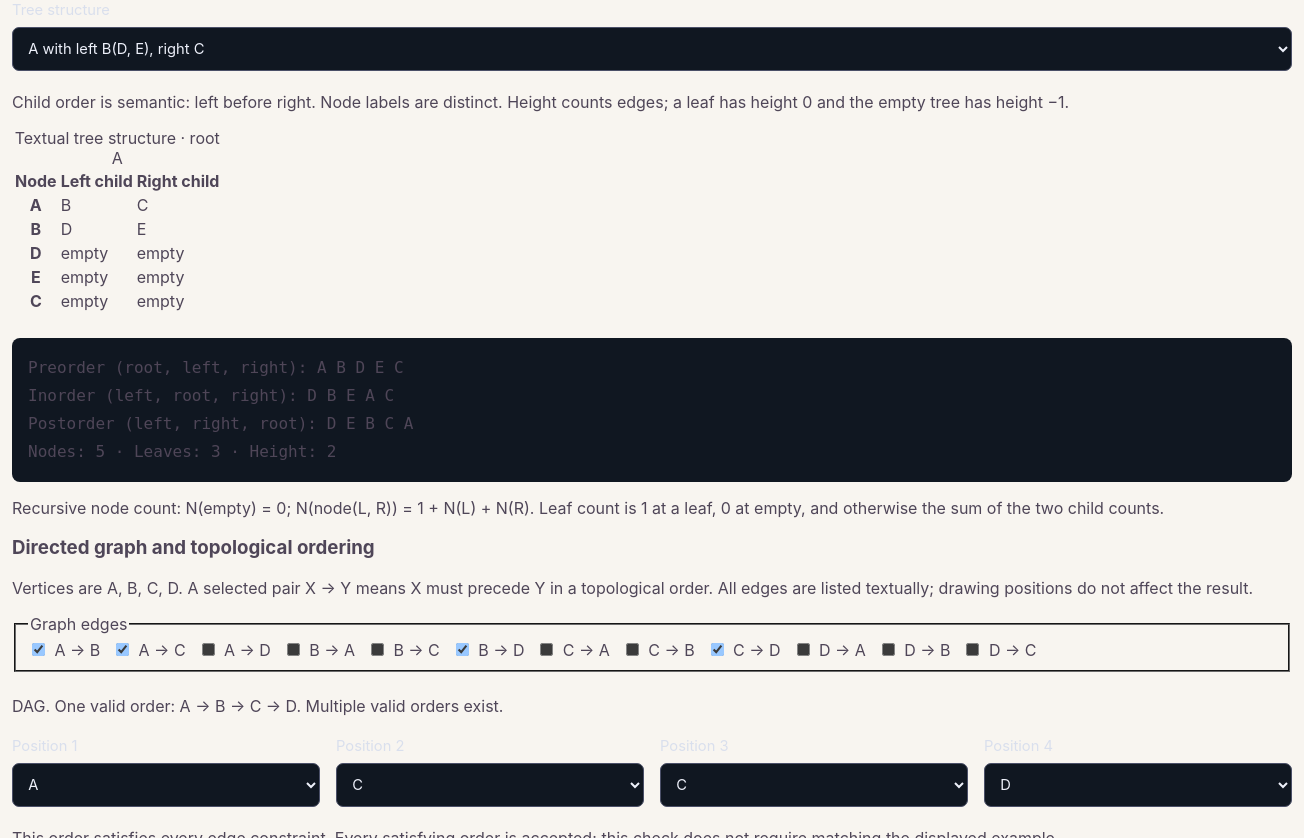
Test case: R&L workspace controls preserve their mathematical claims › accepts both valid topological orders, rejects duplicates and detects a cycle from an added edge
The width and height of the screenshot is (1304, 838).
Check: the label "Position 2" is shown, box [336, 736, 644, 807]
Select "C" in the dropdown labelled "Position 2" at x=490, y=785, box [336, 762, 644, 807]
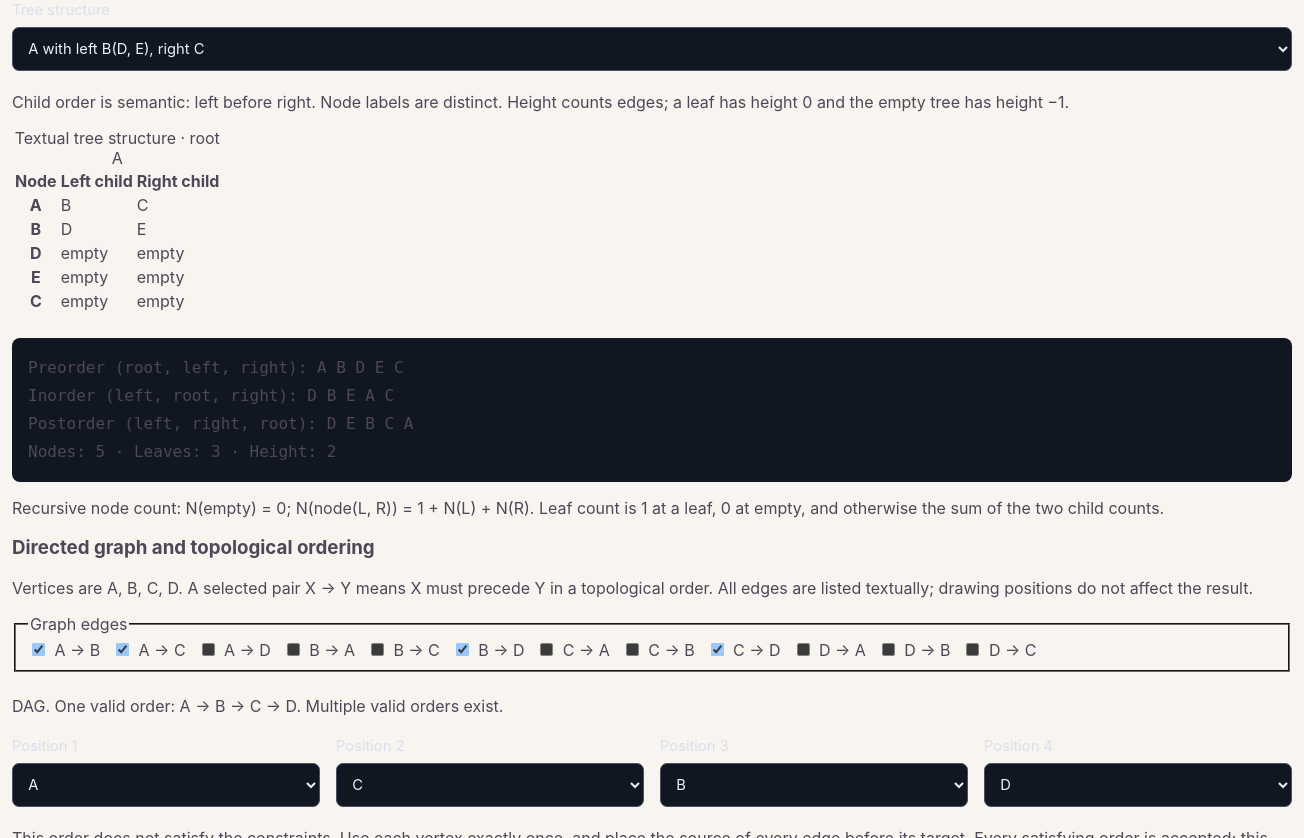
Check: the label "Position 3" is shown, box [660, 736, 968, 807]
Select "B" in the dropdown labelled "Position 3" at x=814, y=785, box [660, 762, 968, 807]
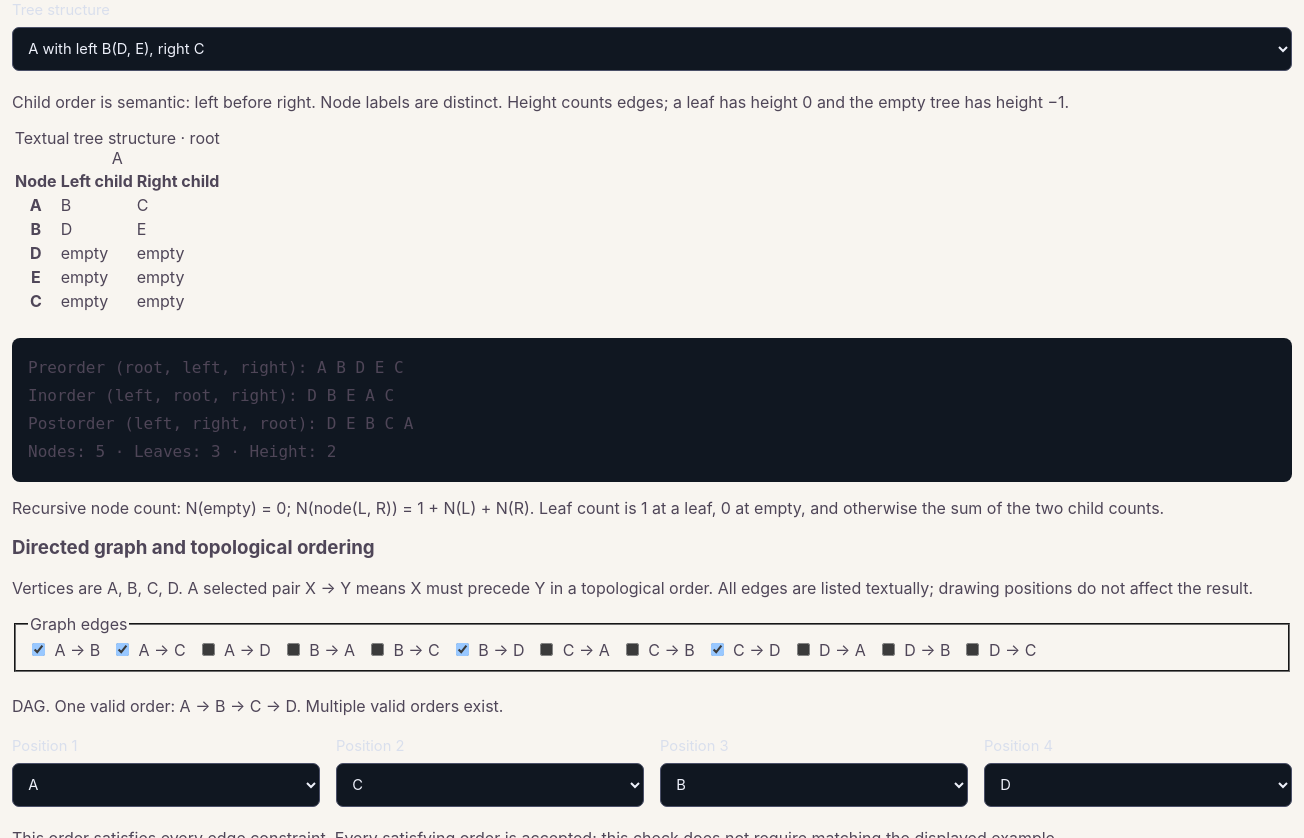
Check: the label "D → A" is shown, box [793, 640, 866, 660]
Click the checkbox labelled "D → A".
click(803, 650)  # box [797, 643, 810, 656]
(page scrolled)
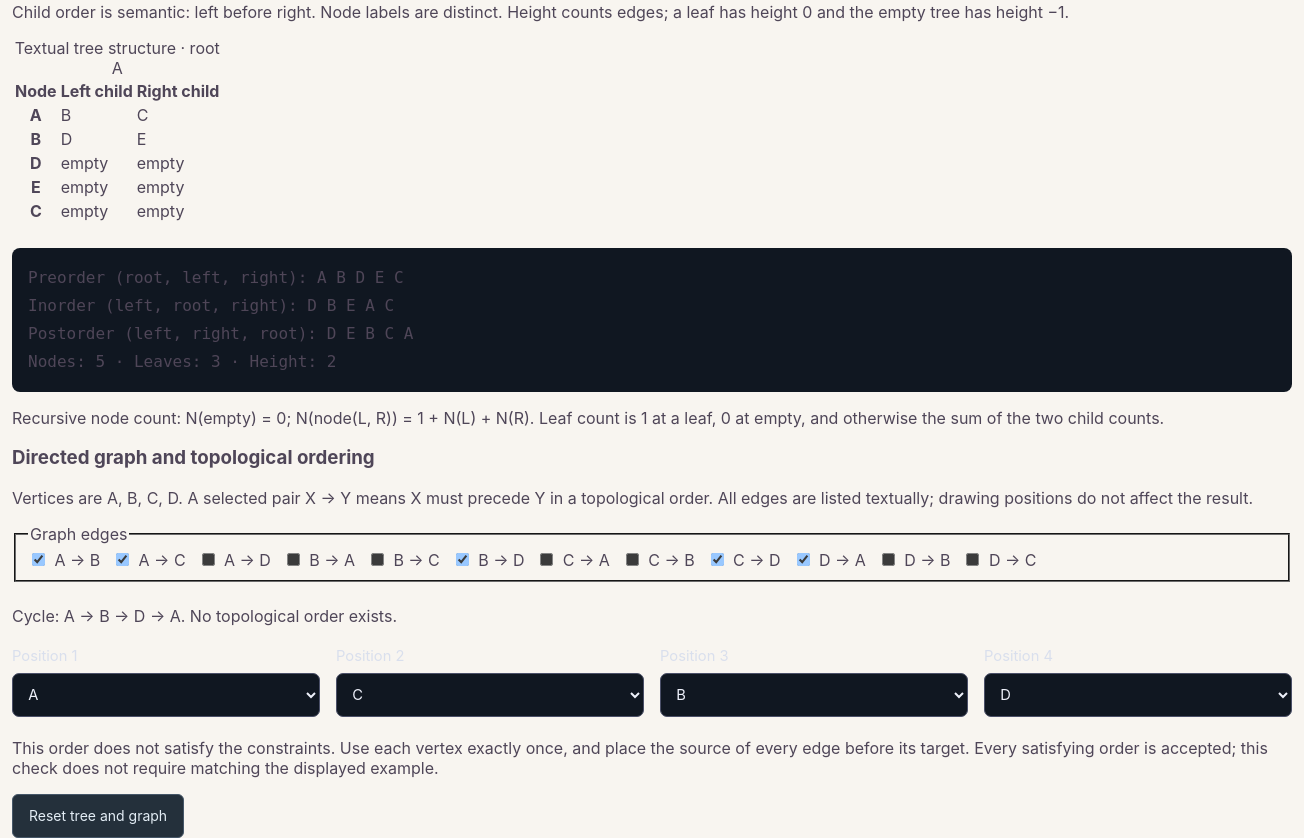
Check: the text "No topological order exists." is shown, box [12, 606, 397, 626]
Check: the text "This order does not satisfy the constraints." is shown, box [12, 738, 970, 758]
Click the button "Reset tree and graph".
click(98, 816)  # box [12, 794, 184, 837]
(page scrolled)
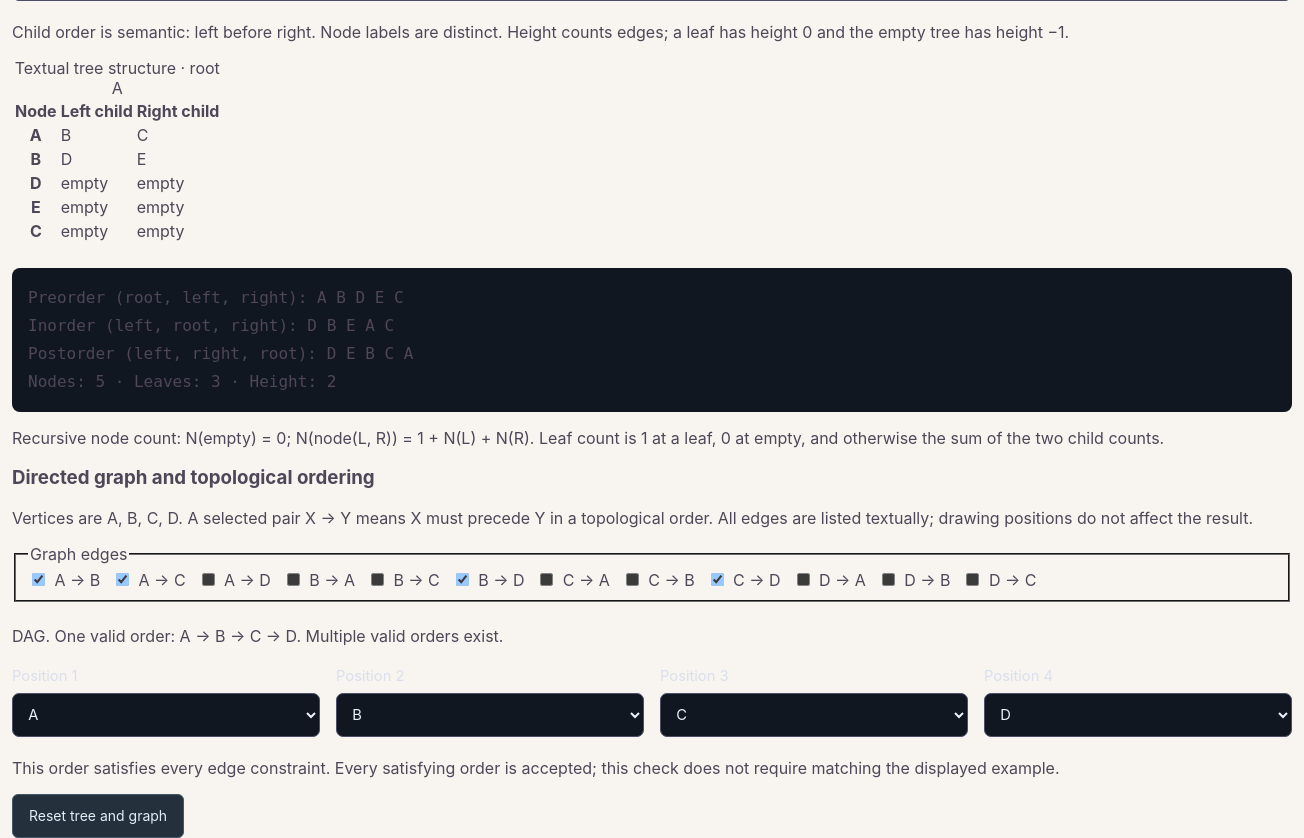
Check: the text "This order satisfies every edge constraint." is shown, box [12, 758, 330, 778]
